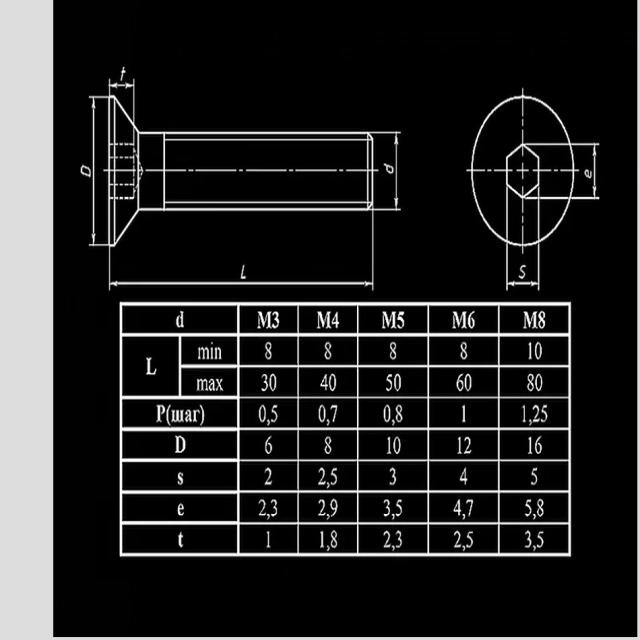marking_line: (107, 246, 375, 290), (88, 94, 108, 248), (374, 130, 402, 213), (505, 247, 541, 291), (576, 140, 601, 200), (108, 77, 136, 95)
numeric: (533, 436, 544, 456), (388, 466, 398, 488), (459, 465, 468, 488), (268, 374, 278, 393), (465, 498, 474, 519), (397, 310, 406, 331), (264, 434, 273, 455), (535, 373, 544, 393), (464, 436, 473, 456), (453, 529, 462, 549), (329, 372, 338, 392), (317, 466, 326, 486), (257, 498, 266, 518), (271, 310, 280, 329), (80, 164, 92, 178), (524, 498, 532, 519), (264, 465, 272, 486), (270, 497, 278, 518), (383, 404, 392, 422), (330, 405, 339, 423), (464, 372, 472, 392), (390, 341, 398, 361), (271, 403, 279, 423), (394, 372, 401, 394), (325, 340, 332, 362), (317, 499, 326, 516), (535, 341, 543, 360), (530, 467, 538, 486), (524, 530, 532, 549), (382, 499, 390, 518), (383, 530, 391, 549), (330, 499, 338, 518), (396, 403, 403, 424), (461, 342, 469, 360), (468, 311, 476, 329), (532, 404, 540, 422), (467, 531, 475, 549), (393, 437, 401, 455), (320, 373, 328, 391), (318, 405, 326, 423), (324, 436, 332, 454), (331, 530, 339, 548), (258, 404, 266, 422), (537, 529, 544, 549), (264, 341, 271, 360), (541, 404, 548, 423), (537, 498, 544, 517), (385, 373, 392, 392), (264, 530, 271, 549), (518, 263, 526, 279), (538, 310, 545, 328), (457, 374, 464, 392), (454, 498, 461, 516), (396, 499, 403, 517), (332, 311, 339, 329), (382, 163, 393, 174), (527, 341, 533, 361), (461, 404, 467, 424), (240, 264, 247, 281), (261, 375, 268, 392), (527, 373, 533, 392), (521, 405, 527, 424), (386, 437, 392, 455), (396, 530, 402, 548), (331, 466, 337, 484), (119, 66, 126, 81), (320, 530, 325, 550), (528, 437, 533, 455), (584, 170, 592, 179), (458, 437, 462, 455)
